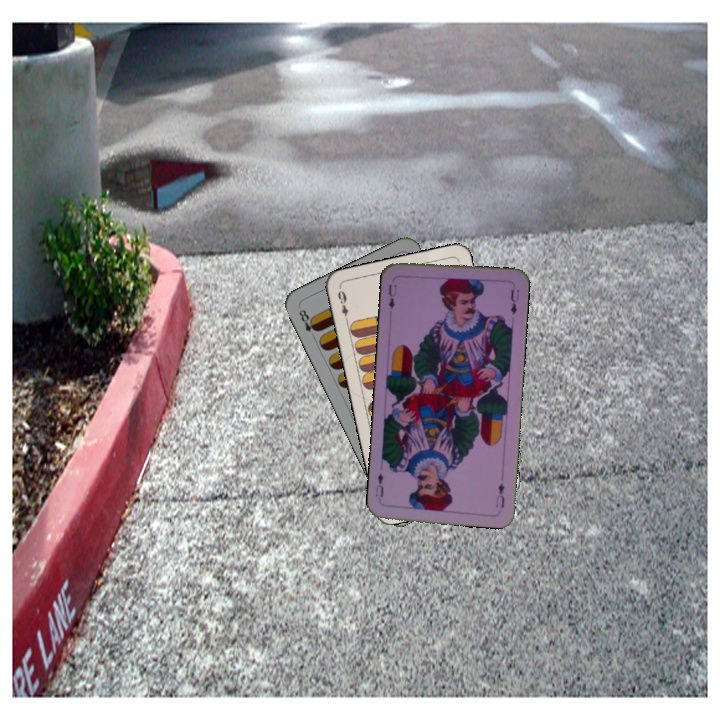E8: (295, 305, 321, 342)
E9: (333, 284, 351, 325)
EU: (492, 479, 507, 511), (384, 280, 399, 311)
